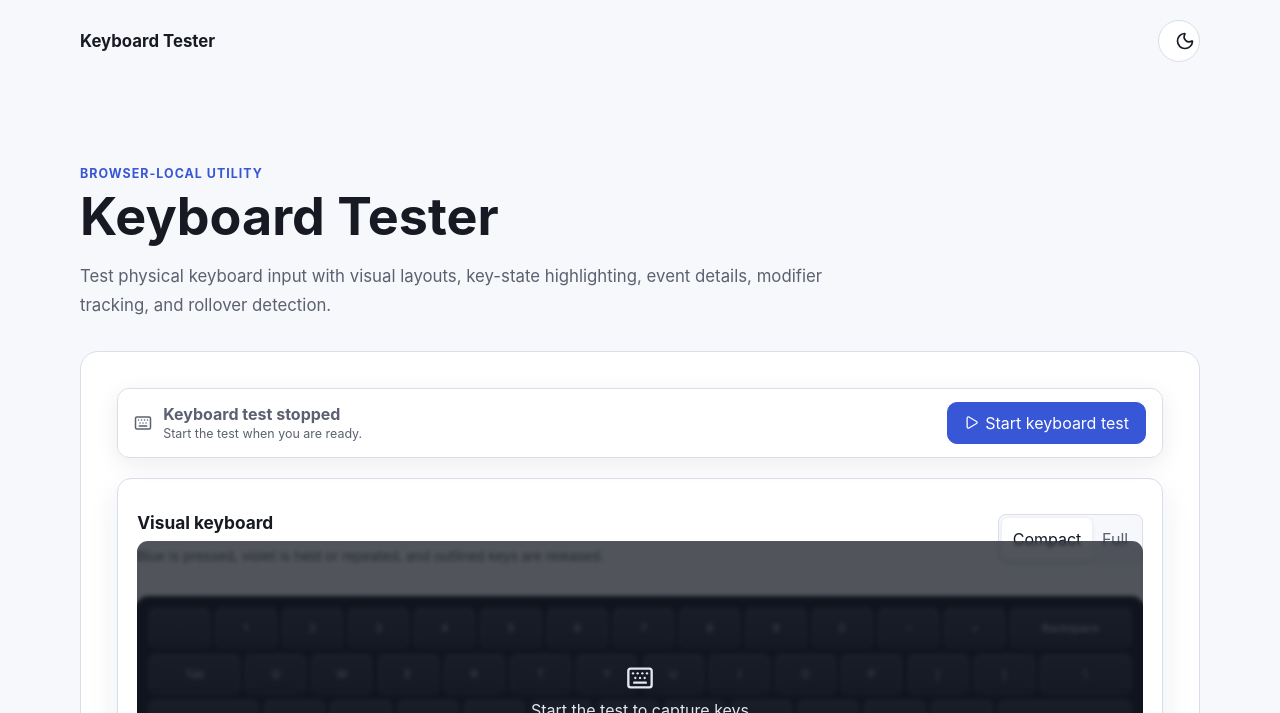
Test: Keyboard Tester › captures simultaneous keys, event details, and releases
Step 1. Click the button "Start keyboard test" → (1046, 423), box [947, 402, 1146, 444]
(page scrolled)
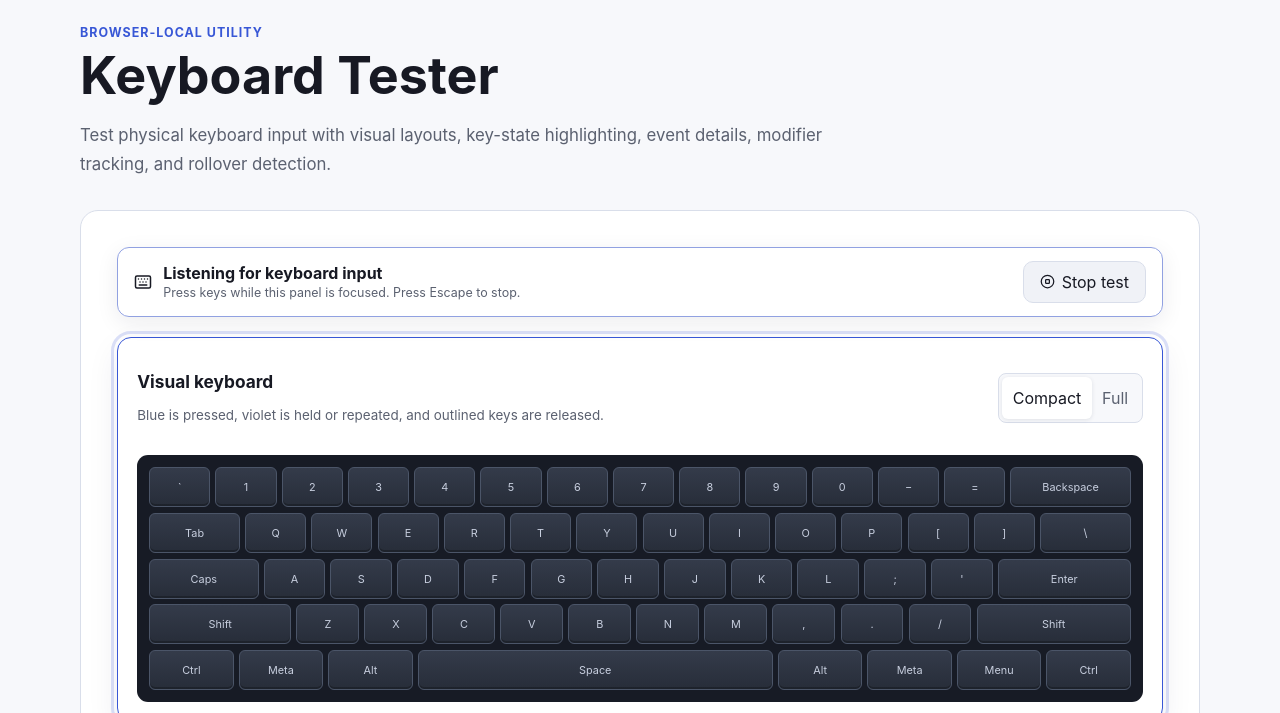
Step 2. Press Shift
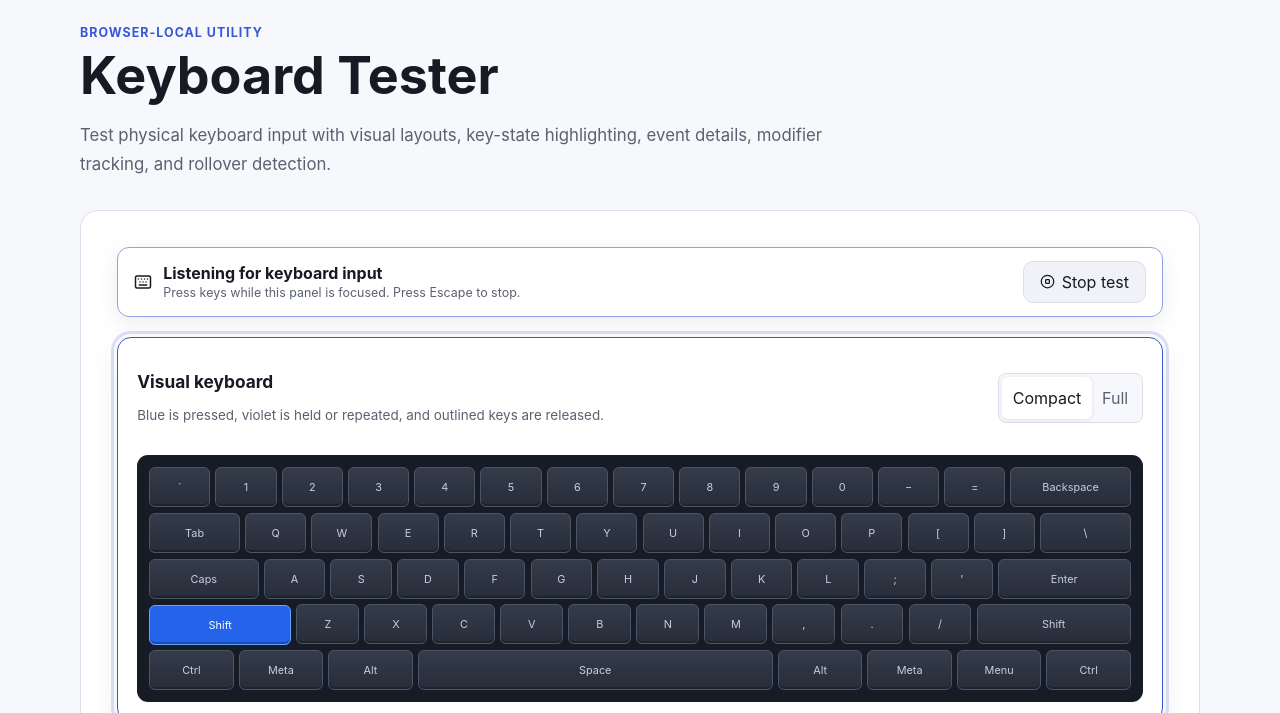
Step 3. Press A
(page scrolled)
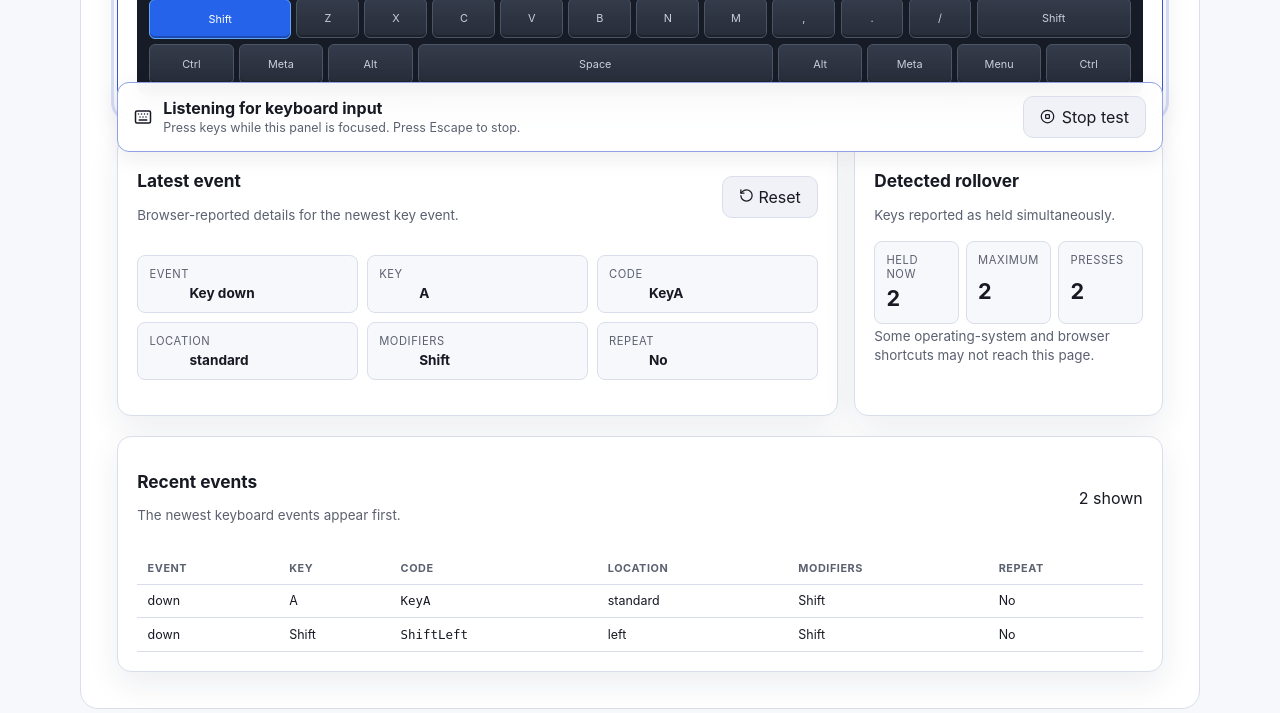
Expected: the text "Shift" below "Key down" is shown, [419, 352, 450, 368]
Expected: the text "2" below "Held now" is shown, [886, 286, 900, 312]
Expected: the text "KeyA" in the row of "Key down" is shown, [649, 285, 684, 301]
Step 4. Press A
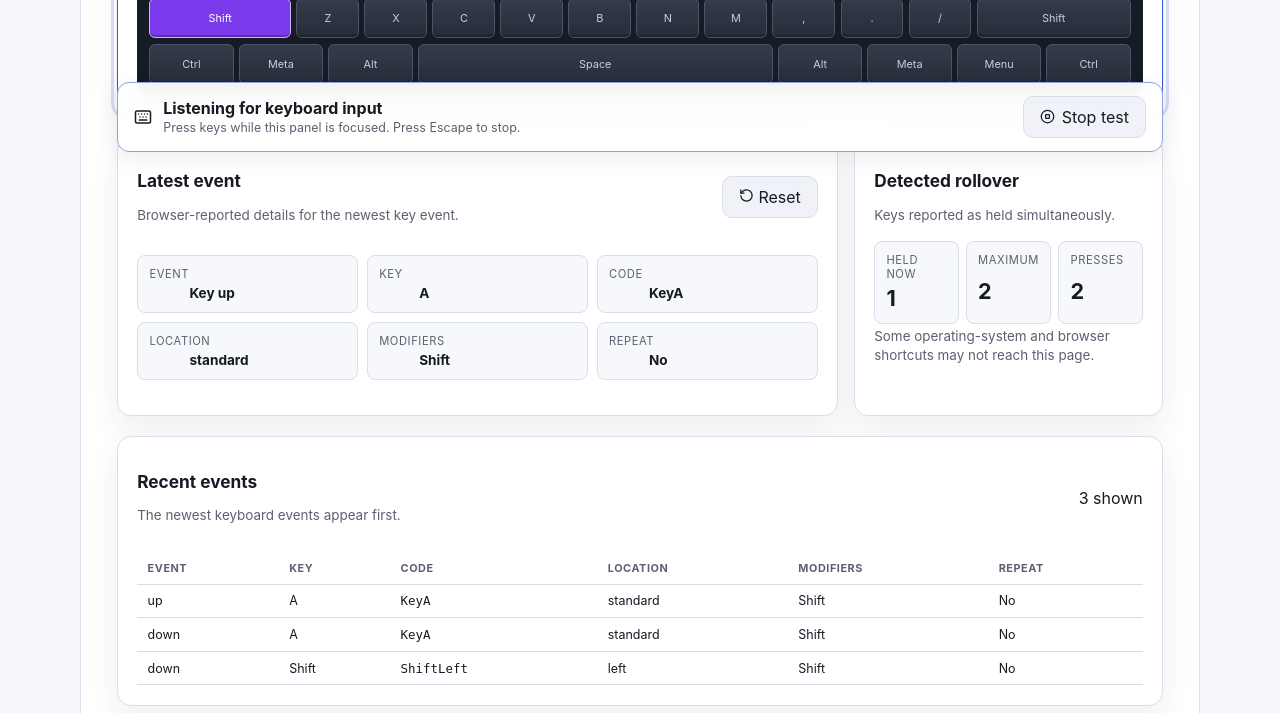
Expected: the text "1" is shown, [886, 286, 896, 312]
